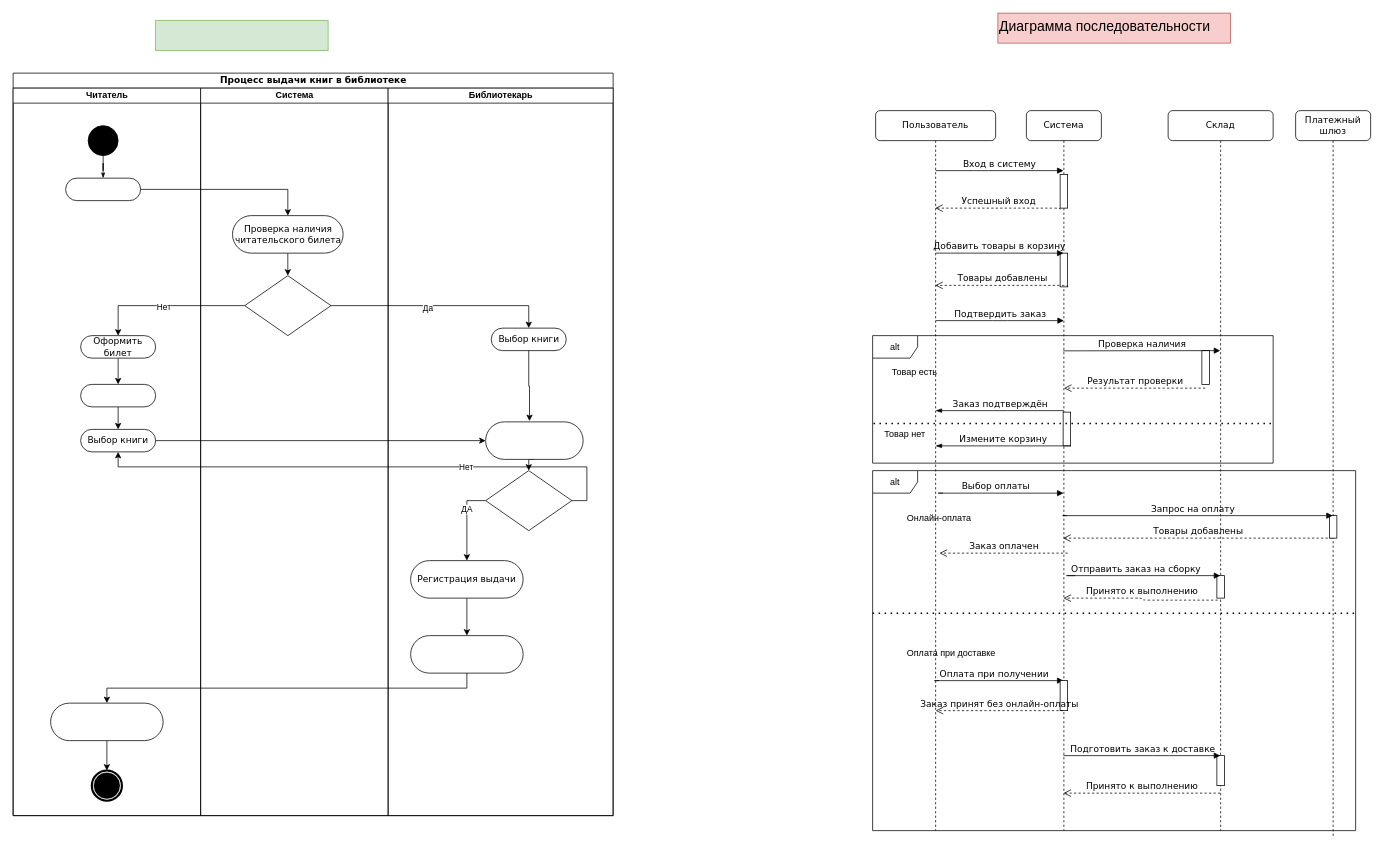
Some shapes in this 1384 by 851 pixel diagram are drawn without their labels. Each missing label, with the centre of its shape:
Выдать книгу: (466,654)
Диаграмма деятельности: (241,35)
Есть билет?: (287,305)
Книга доступна?: (528,500)
Получение книги: (106,721)
Приходит в библиотеку: (103,189)
Проверка доступности книги: (534,440)
Создание билета: (118,395)
